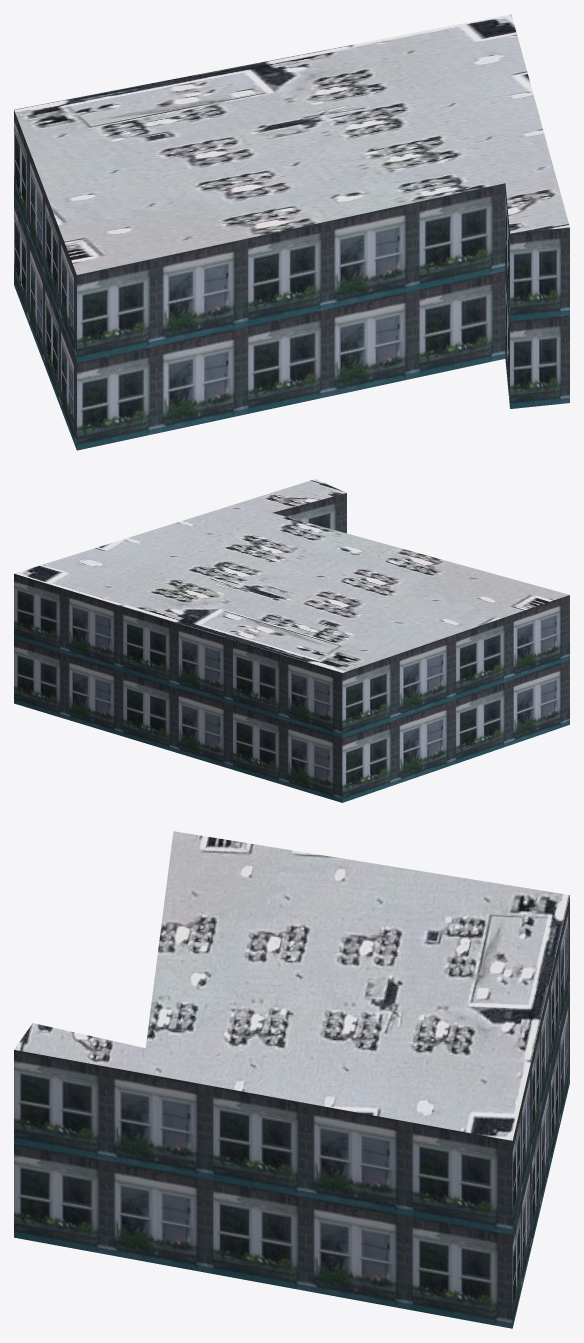
File: ResTex__3983.fbx
The picture shows the model from 3 angles, top to bottom: view 1: azimuth 30°, elevation 25°; view 2: azimuth 150°, elevation 25°; view 3: azimuth 270°, elevation 25°; orthographic projection. The views are drawn at different scales.
Parts seen in each view (by area): view 1: CityEngineMaterial_11_m, CityEngineMaterial_4_m; view 2: CityEngineMaterial_11_m, CityEngineMaterial_4_m; view 3: CityEngineMaterial_11_m, CityEngineMaterial_4_m.
Part boxes in pixels (<box>): CityEngineMaterial_11_m: <box>14,110,569,450</box>; CityEngineMaterial_4_m: <box>14,14,569,274</box>; CityEngineMaterial_11_m: <box>14,493,569,802</box>; CityEngineMaterial_4_m: <box>14,479,569,672</box>; CityEngineMaterial_11_m: <box>14,896,569,1328</box>; CityEngineMaterial_4_m: <box>14,831,569,1140</box>.
Size of the model in its own units: 21.22 by 6 by 16.1.
Materials: 2 (2 with a texture image).
